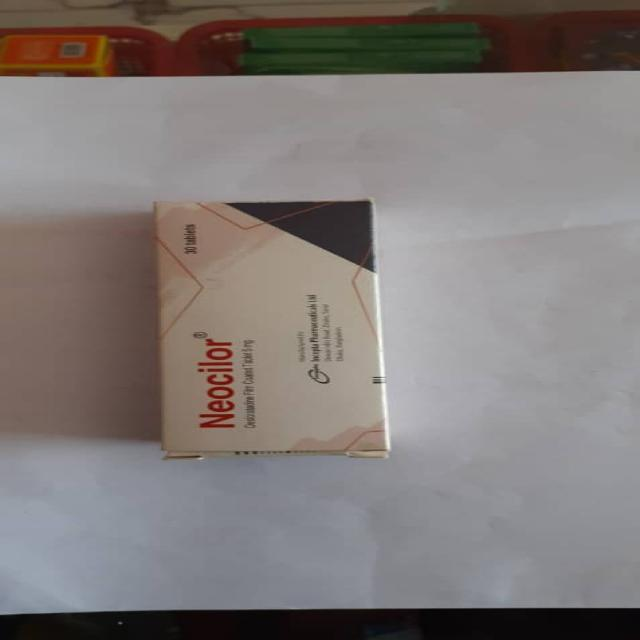drug-name: (190, 338, 238, 431)
